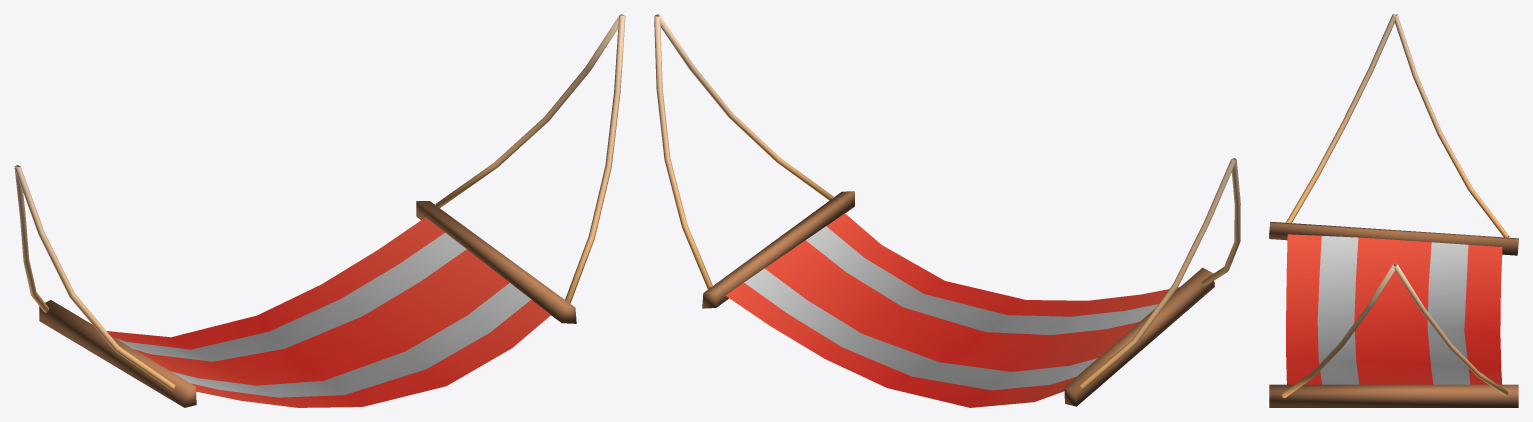
File: hamacaSinPalos.fbx
3 renders of one model, left to right at view 1: azimuth 30°, elevation 25°; view 2: azimuth 150°, elevation 25°; view 3: azimuth 270°, elevation 25°, orthographic. The views are drawn at different scales.
Parts seen in each view (by area): view 1: hamacaSinPalos; view 2: hamacaSinPalos; view 3: hamacaSinPalos.
Boxes of the visible parts, <box> form: hamacaSinPalos: <box>14,14,625,407</box>; hamacaSinPalos: <box>654,14,1240,407</box>; hamacaSinPalos: <box>1269,14,1518,407</box>.
Bounding box in the file's own units: 253 × 108 × 105.
Materials: 1 (1 with a texture image).
